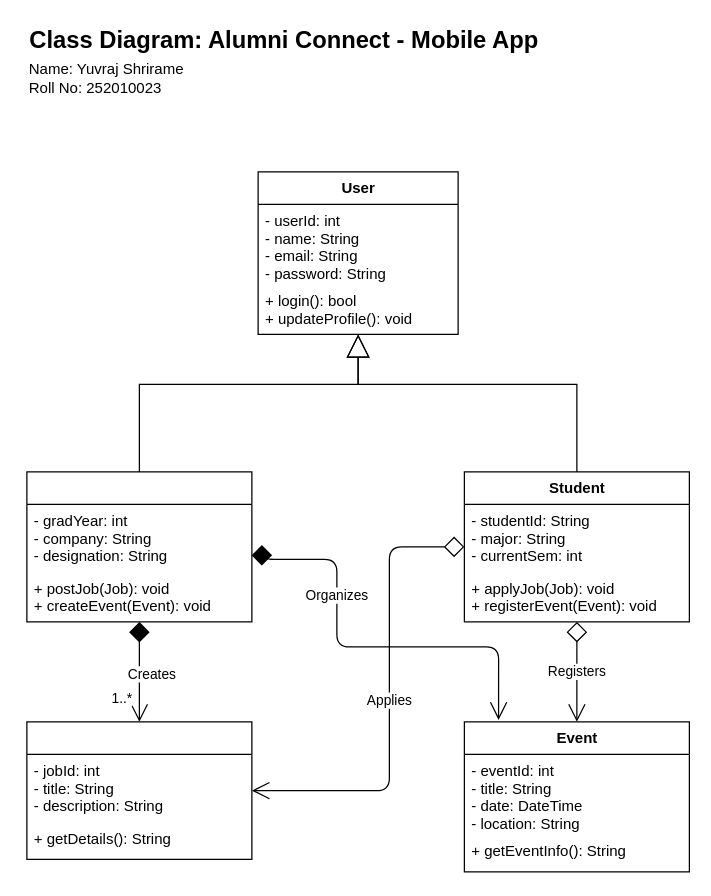
Some shapes in this 711 by 896 pixel diagram are drawn without their labels. Here are the shapes that lost their labels. From the top down, the box of each, then its label:
(26, 471, 252, 622): Alumni
(26, 721, 252, 859): JobPost
